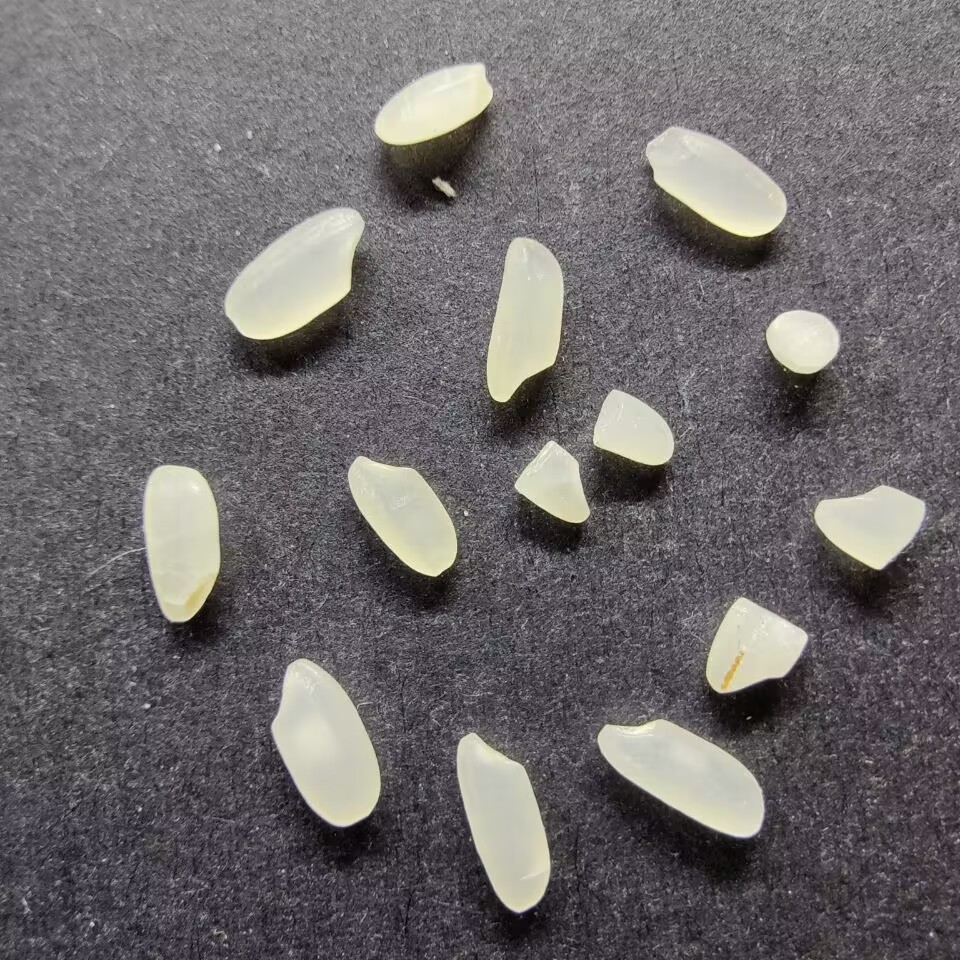broken: (704, 596, 812, 696), (812, 483, 926, 571), (511, 438, 593, 525), (591, 387, 675, 467), (763, 306, 843, 375)
rice: (596, 717, 767, 840), (222, 205, 365, 342), (268, 658, 381, 828), (453, 731, 553, 914), (642, 122, 788, 239), (344, 454, 459, 579), (482, 235, 565, 403), (141, 460, 223, 626), (371, 61, 495, 147)
